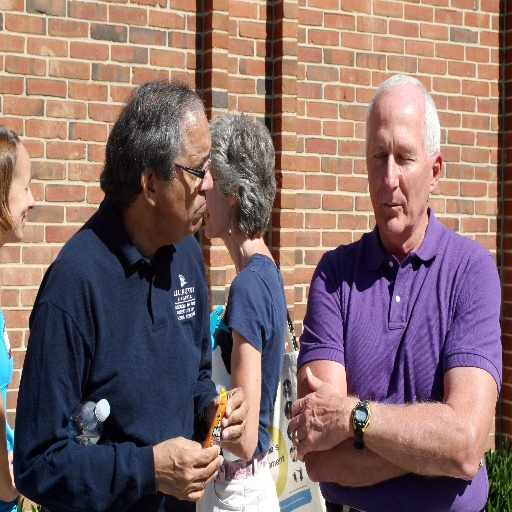hand: (287, 366, 349, 463), (156, 433, 223, 502), (205, 384, 247, 446)
